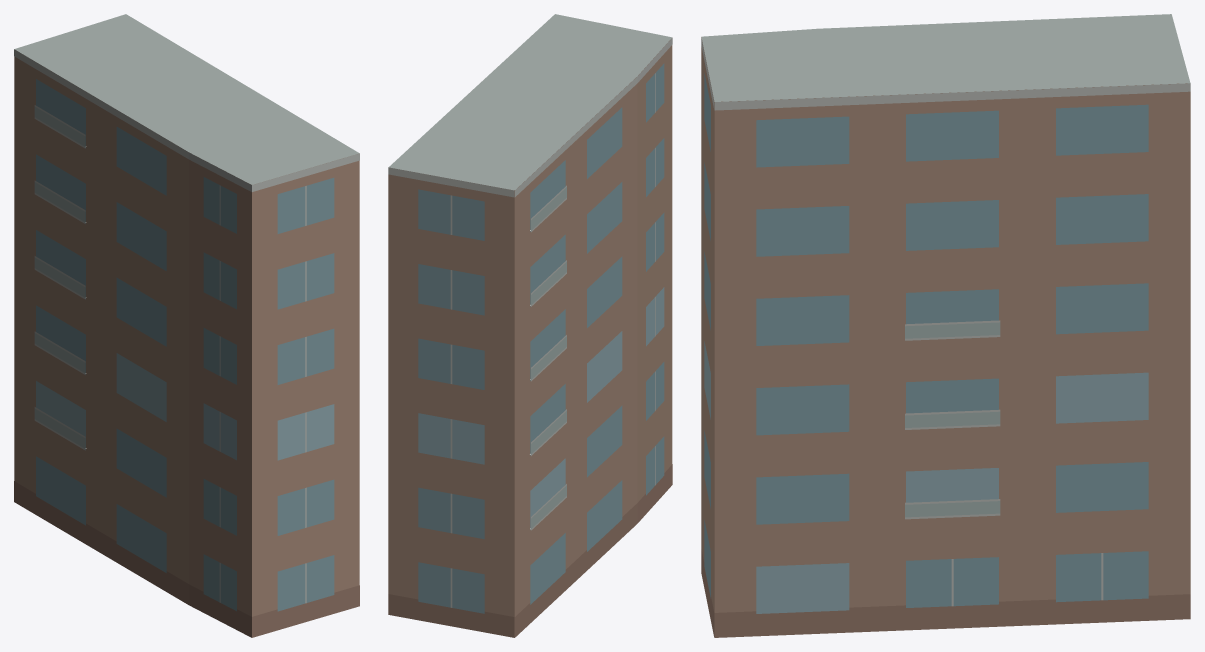
The model's file is survey-upis-32474089.glb.
3 renders of one model, left to right at view 1: azimuth 30°, elevation 25°; view 2: azimuth 150°, elevation 25°; view 3: azimuth 270°, elevation 25°, orthographic. The views are drawn at different scales.
Parts seen in each view (by area): view 1: survey-upis-32474089.tmp; view 2: survey-upis-32474089.tmp; view 3: survey-upis-32474089.tmp.
Part boxes in pixels (box(x1,y1,x2,y2)): survey-upis-32474089.tmp: box(14, 14, 359, 637); survey-upis-32474089.tmp: box(388, 14, 672, 637); survey-upis-32474089.tmp: box(701, 14, 1190, 637).
Size of the model in its own units: 5.44 by 15.4 by 12.75.
